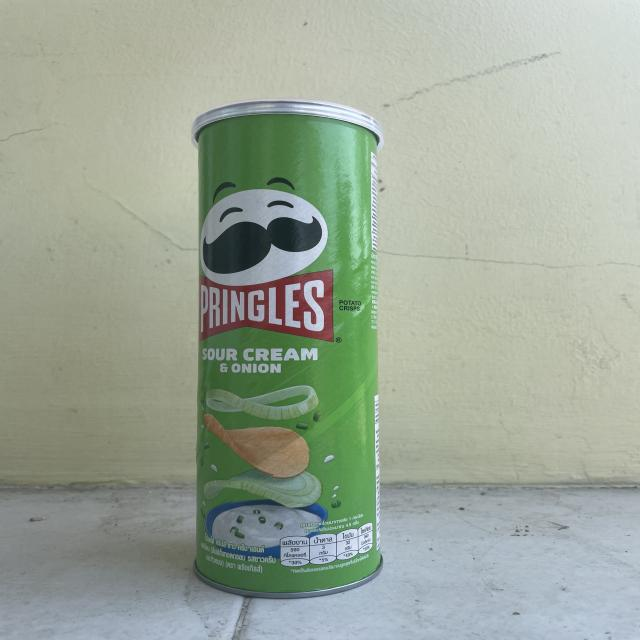a pringles: (187, 92, 394, 602)
